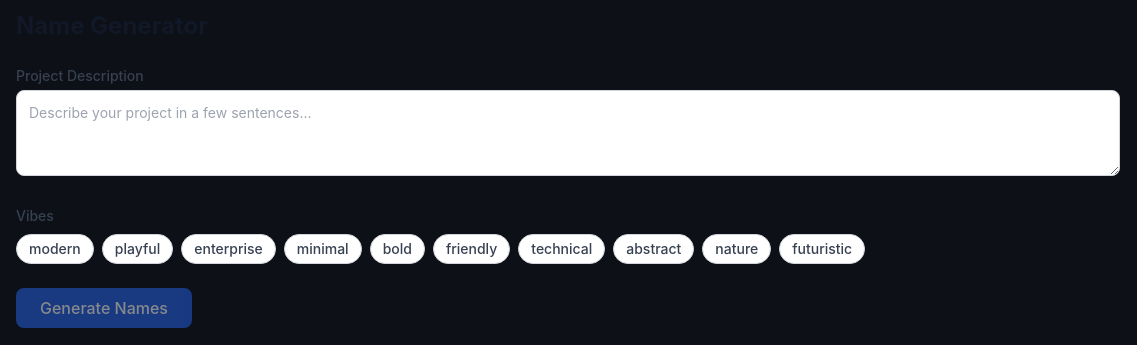
Test case: NameGenerator › shows loading state during generation
Type "A developer tool" into the text box labelled "Project Description" at (568, 133), box [16,90,1120,176]
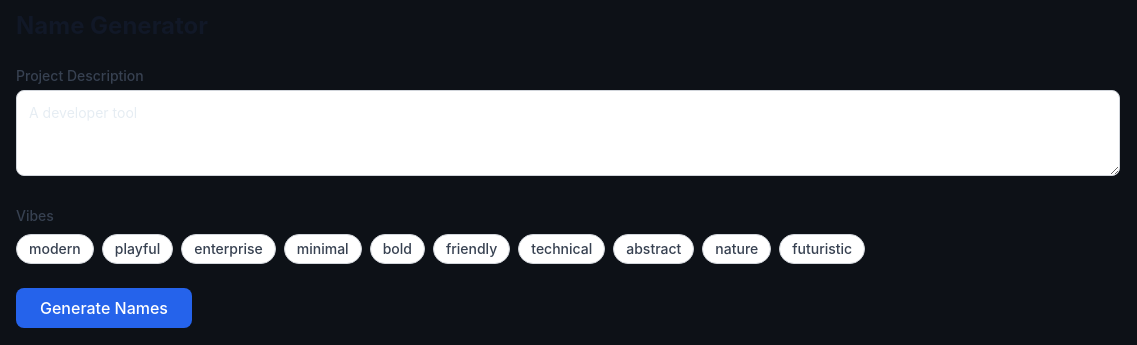
Click the button "Generate Names" at (104, 308), box [16,288,192,328]
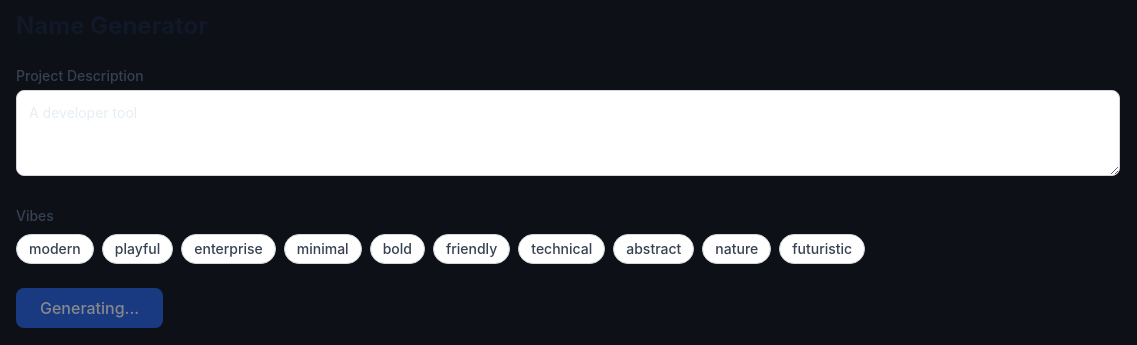
Result: the button "Generating..." is shown at [16,288,163,328]
